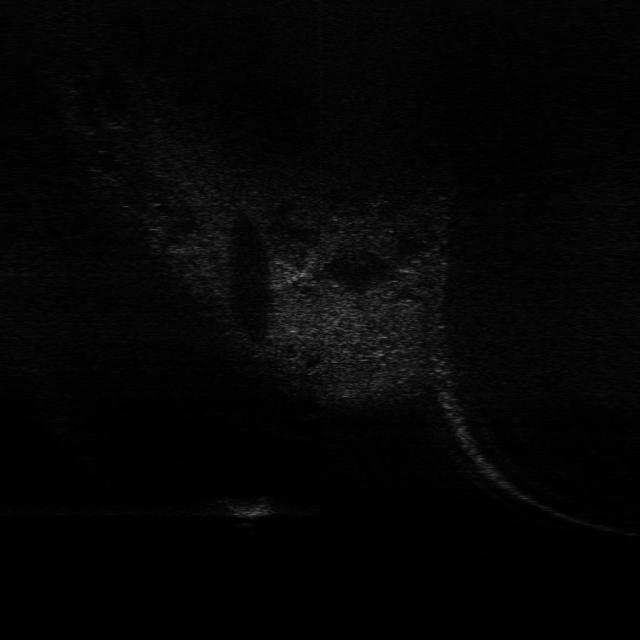cube: (214, 493, 274, 522)
